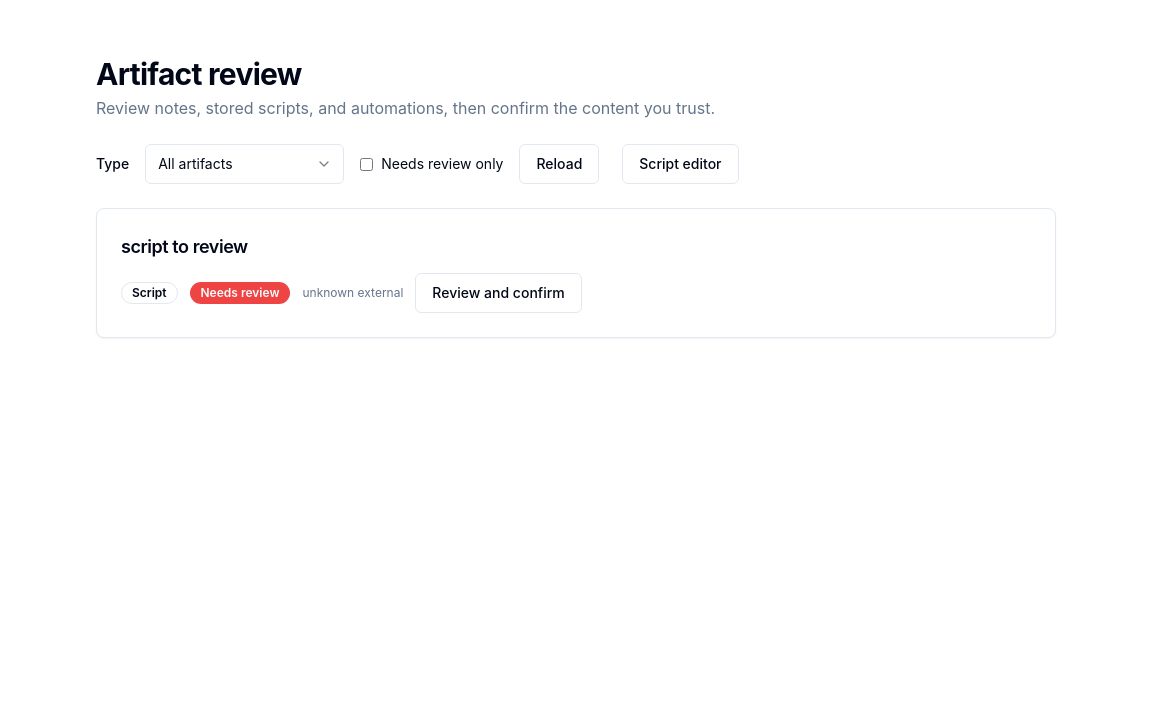
Test case: Artifact review › keeps the review open when confirmation fails
Click the button "Review and confirm". click: (498, 293)
box: top-left (415, 273), bottom-right (582, 313)
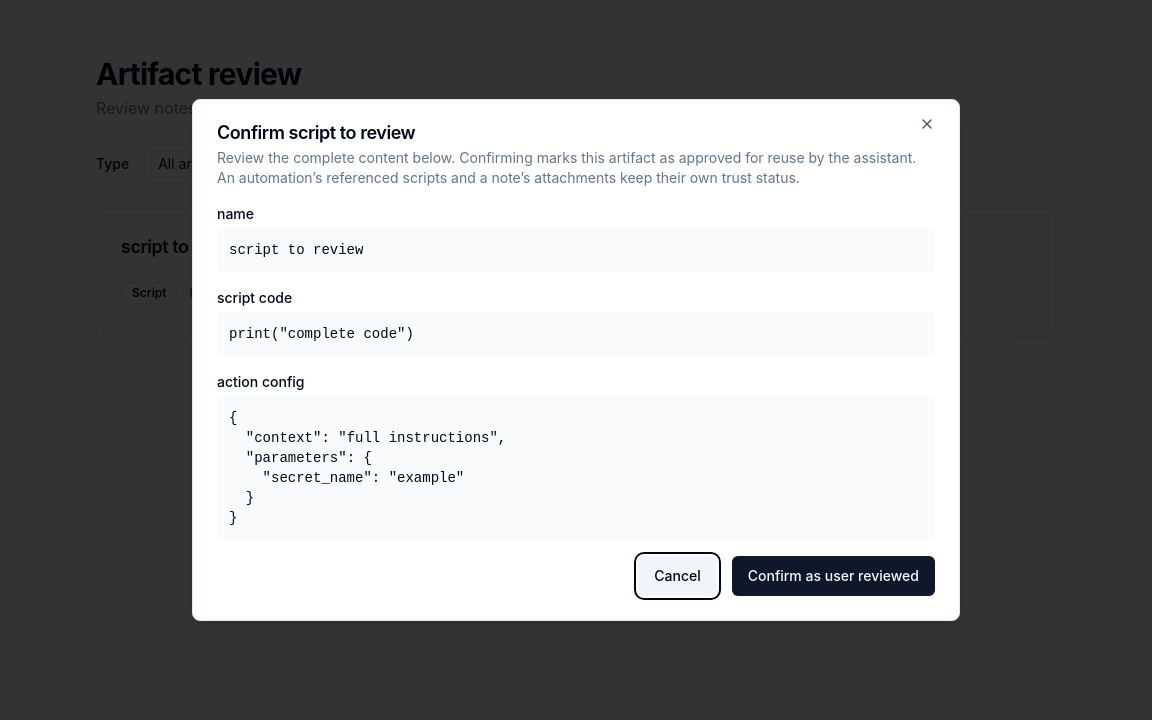
Click the button "Confirm as user reviewed". click: (833, 576)
box: top-left (732, 556), bottom-right (935, 596)
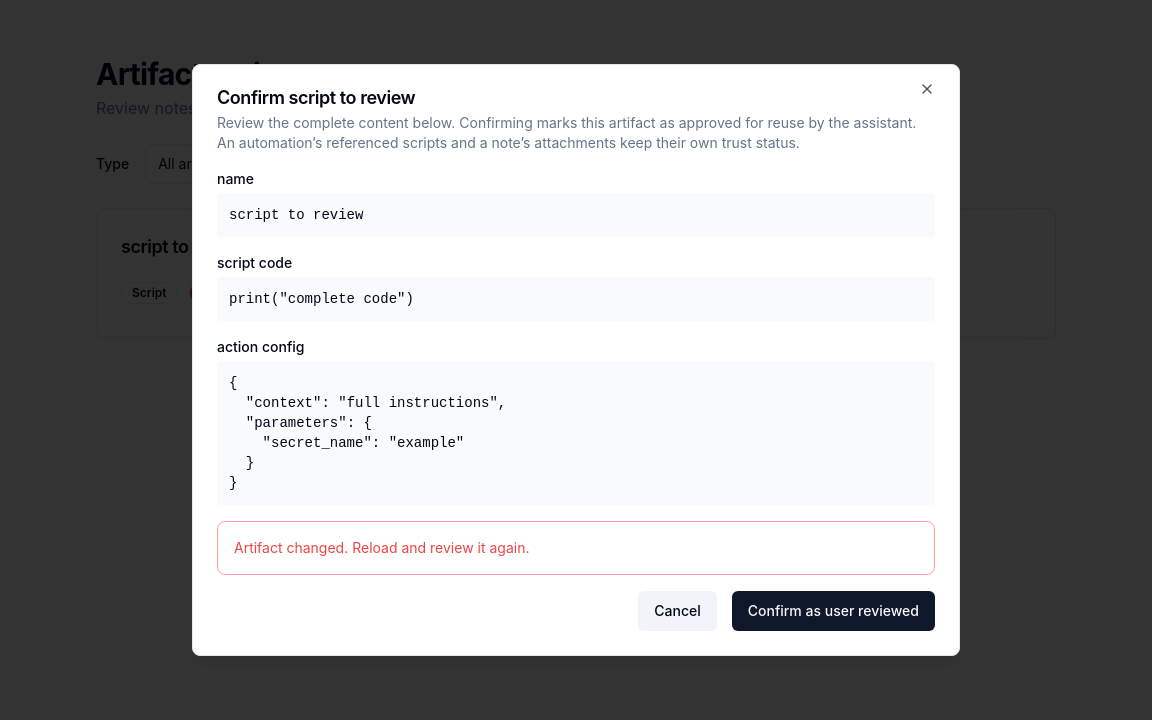
Expected: the dialog is shown, top-left (192, 64), bottom-right (960, 656)
Expected: the button "Confirm as user reviewed" is enabled, top-left (732, 591), bottom-right (935, 631)
Expected: the text "Artifact changed. Reload and review it again." is shown, top-left (234, 539), bottom-right (530, 556)
